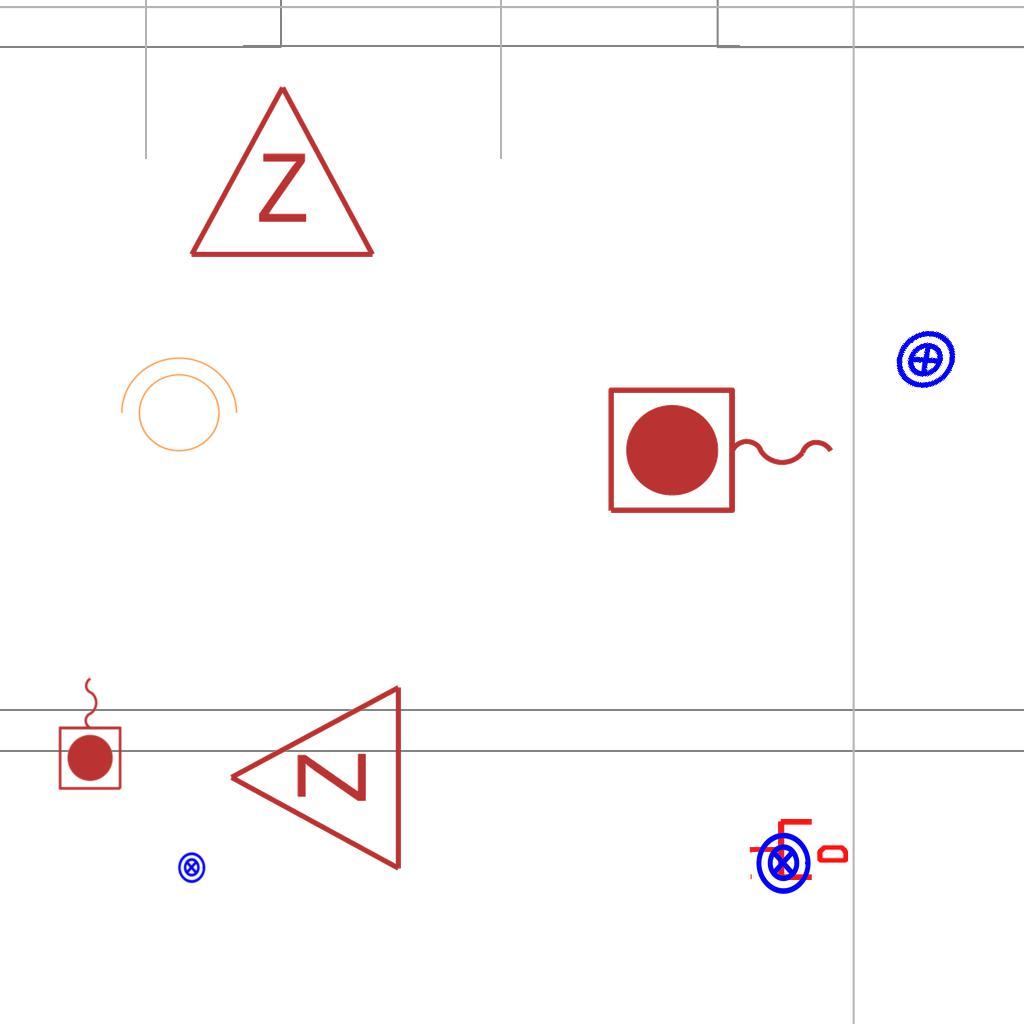Datenanschluss_einfach: (748, 815, 848, 884)
Scheinwerfer_fuer_Alarmbeleuchtung: (110, 352, 242, 464)
Taster_beleuchtet: (879, 313, 973, 407), (750, 830, 816, 896), (175, 851, 208, 884)
Zimmersignalleuchte: (216, 682, 416, 878), (182, 72, 378, 272)
Zugtaster: (600, 380, 844, 524), (55, 672, 127, 794)
